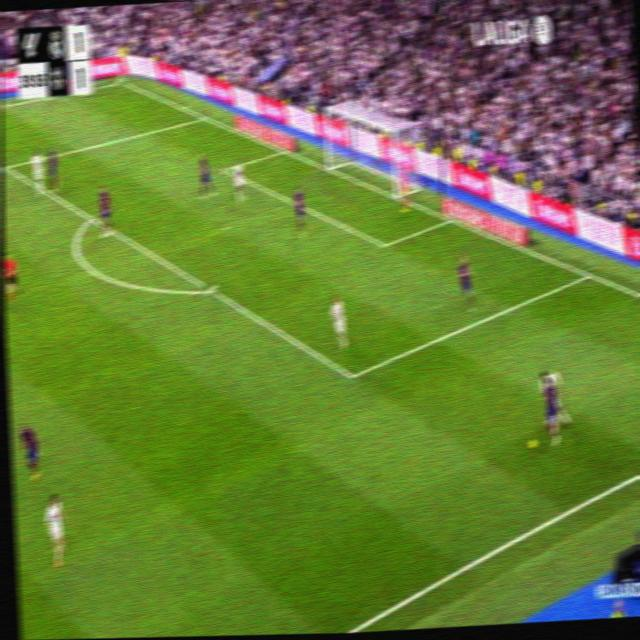bigarea_bottom_inner: (343, 362, 358, 388)
bigarea_bottom_outter: (581, 265, 594, 282)
bigarea_top_inner: (1, 159, 11, 176)
bigarea_top_outter: (198, 109, 208, 123)
bottom_arc_area_intersection: (202, 277, 217, 301)
corner: (115, 76, 126, 86)
smallarea_top_inner: (219, 162, 229, 176)
top_arc_area_intersection: (87, 210, 95, 224)
